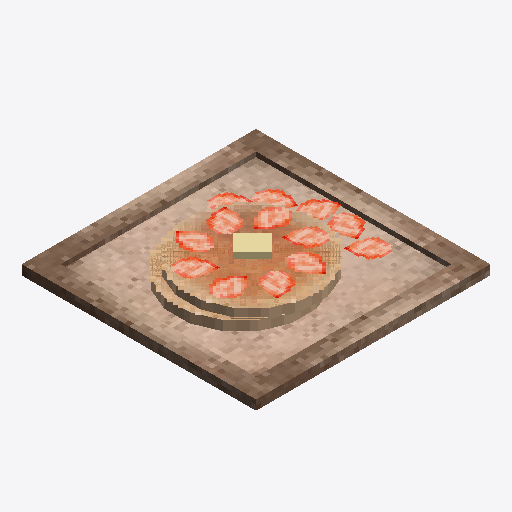
Isometric view (azimuth 45°, elevation 35.3°) of a Minecraft model made of 37 cuboids, textured from the same repository.
Parts seen in each view (by area): element 33, element 10, element 35, element 34, element 37, element 36, element 1, element 32, element 24, element 29, element 22, element 23 (+8 smaller).
Part boxes in pixels (x1,y1,x2,y2): element 33: (22, 157, 489, 409); element 10: (162, 202, 340, 305); element 35: (22, 253, 275, 404); element 34: (237, 129, 489, 280); element 37: (257, 264, 470, 392); element 36: (42, 140, 255, 266); element 1: (150, 237, 284, 317); element 32: (233, 233, 271, 258); element 24: (171, 256, 219, 278); element 29: (209, 276, 246, 297); element 22: (344, 237, 392, 259); element 23: (282, 226, 330, 248).
Size of the model in its own units: 12 by 1.73 by 12.